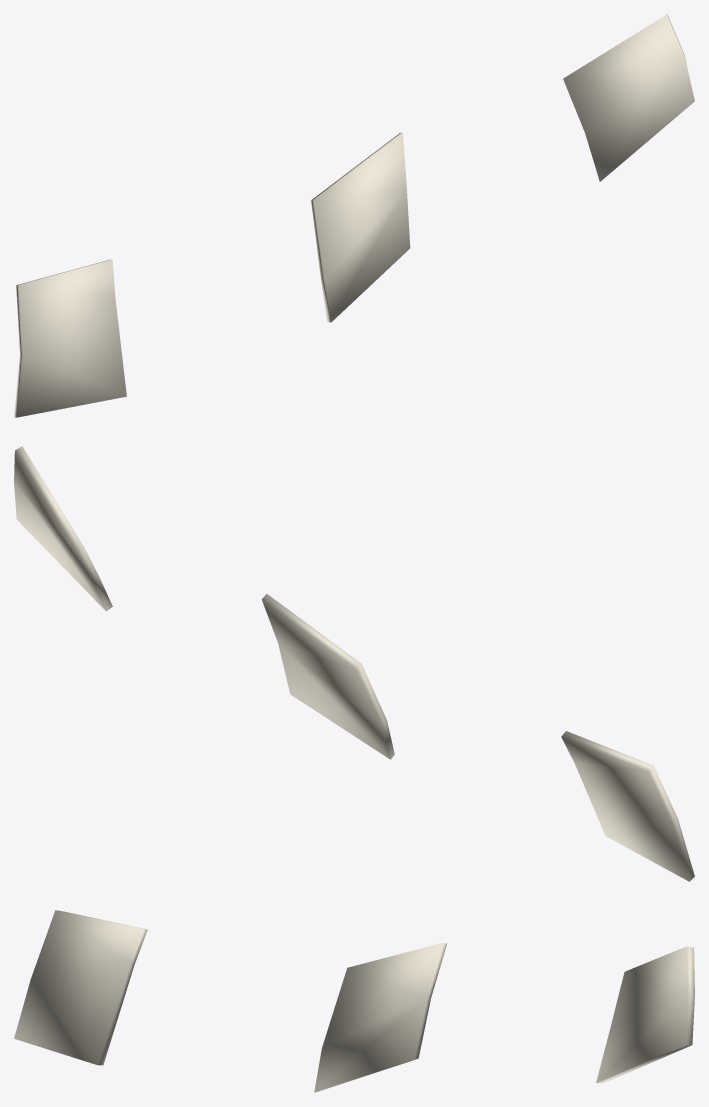
3 views of the same model, one above another, from view 1: azimuth 30°, elevation 25°; view 2: azimuth 150°, elevation 25°; view 3: azimuth 330°, elevation 25° (orthographic). The views are drawn at different scales.
Parts seen in each view (by area): view 1: ZA_23342420a726c121; view 2: ZA_23342420a726c121; view 3: ZA_23342420a726c121.
Part boxes in pixels (x1,y1,x2,y2): ZA_23342420a726c121: (14, 14, 694, 417); ZA_23342420a726c121: (14, 446, 694, 881); ZA_23342420a726c121: (14, 910, 694, 1092).
Size of the model in its own units: 0.0457 by 0.0166 by 0.00497.
